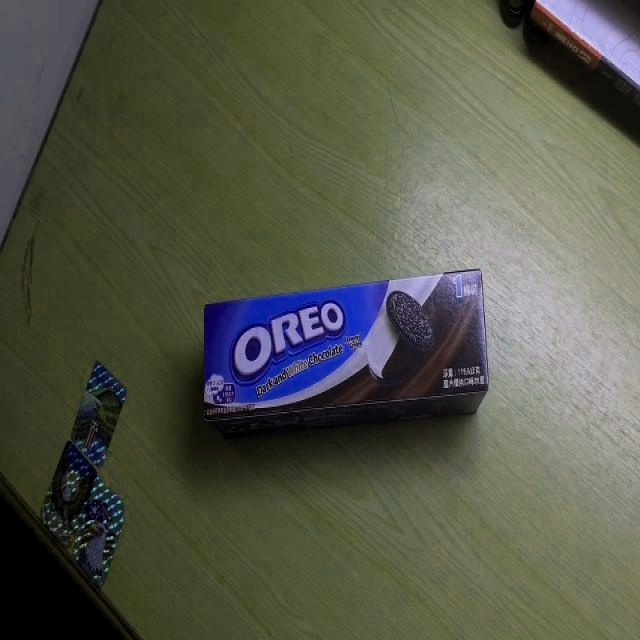Oreo: (202, 265, 489, 443)
